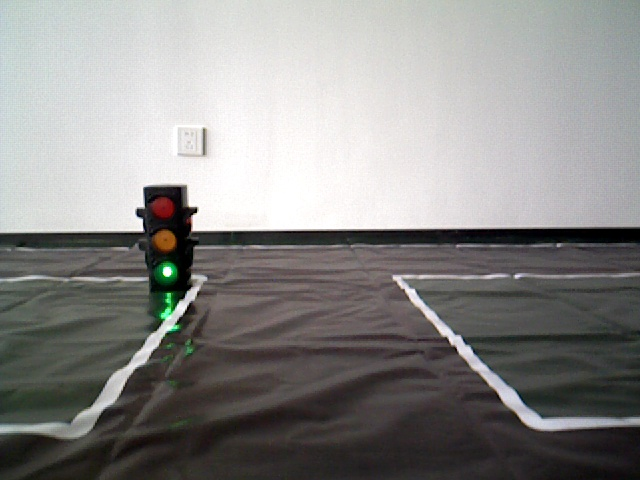green: (149, 190, 191, 286)
